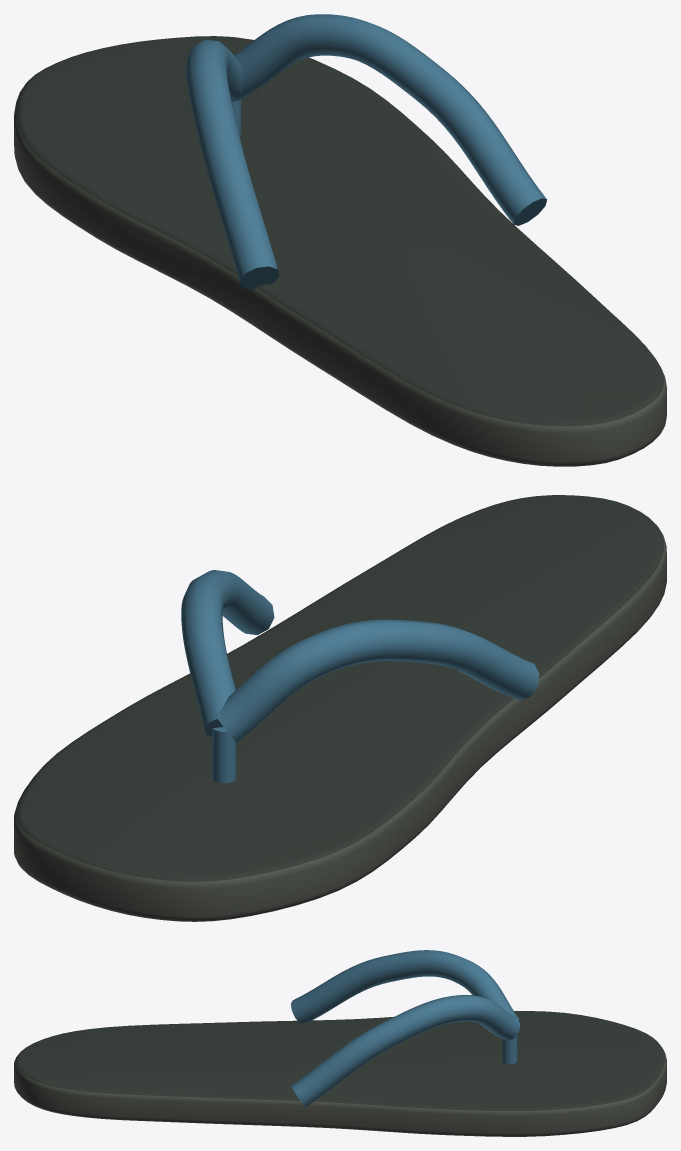
The model's file is IndonesianFlipFlop.fbx.
3 views of the same model, one above another, from view 1: azimuth 30°, elevation 25°; view 2: azimuth 150°, elevation 25°; view 3: azimuth 270°, elevation 25° (orthographic). The views are drawn at different scales.
Visible parts, largest first — view 1: RoundedRubberSole, FlexibleYStrap_1, FlexibleYStrap_-1; view 2: RoundedRubberSole, FlexibleYStrap_-1, FlexibleYStrap_1, ToePost; view 3: RoundedRubberSole, FlexibleYStrap_1, FlexibleYStrap_-1, ToePost.
Boxes of the visible parts, <box> form: RoundedRubberSole: <box>14,36,666,466</box>; FlexibleYStrap_1: <box>234,14,546,225</box>; FlexibleYStrap_-1: <box>185,39,279,289</box>; RoundedRubberSole: <box>14,495,666,921</box>; FlexibleYStrap_-1: <box>215,619,539,742</box>; FlexibleYStrap_1: <box>181,570,274,736</box>; ToePost: <box>212,727,236,783</box>; RoundedRubberSole: <box>14,1011,666,1136</box>; FlexibleYStrap_1: <box>291,995,520,1107</box>; FlexibleYStrap_-1: <box>291,950,520,1023</box>; ToePost: <box>502,1035,517,1064</box>.
Bounding box in the file's own units: 9.86 × 5.16 × 26.87.
